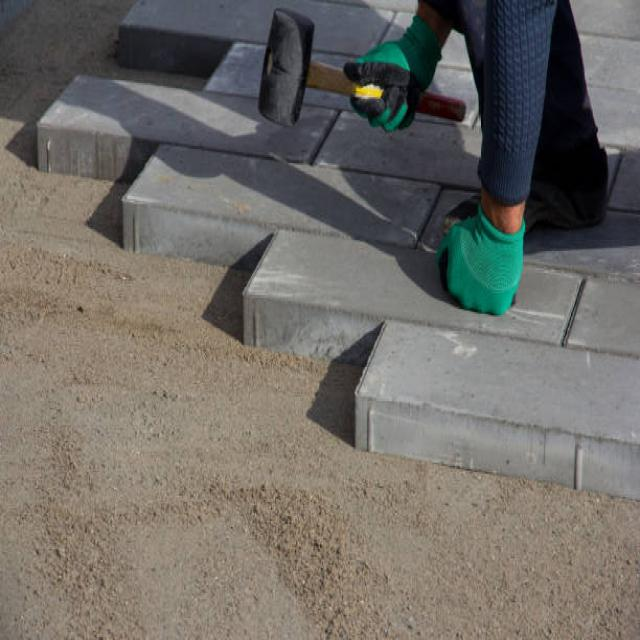gloves: (436, 200, 525, 316), (341, 34, 418, 128)
